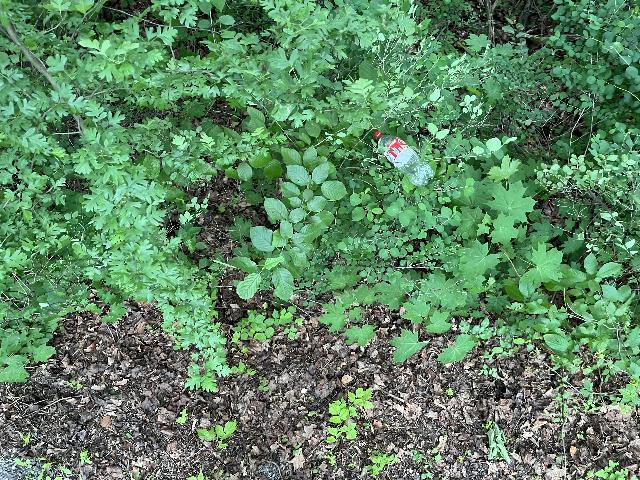plastic_bottle: (371, 130, 436, 187)
